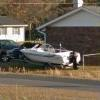Boat: (18, 38, 89, 71)
